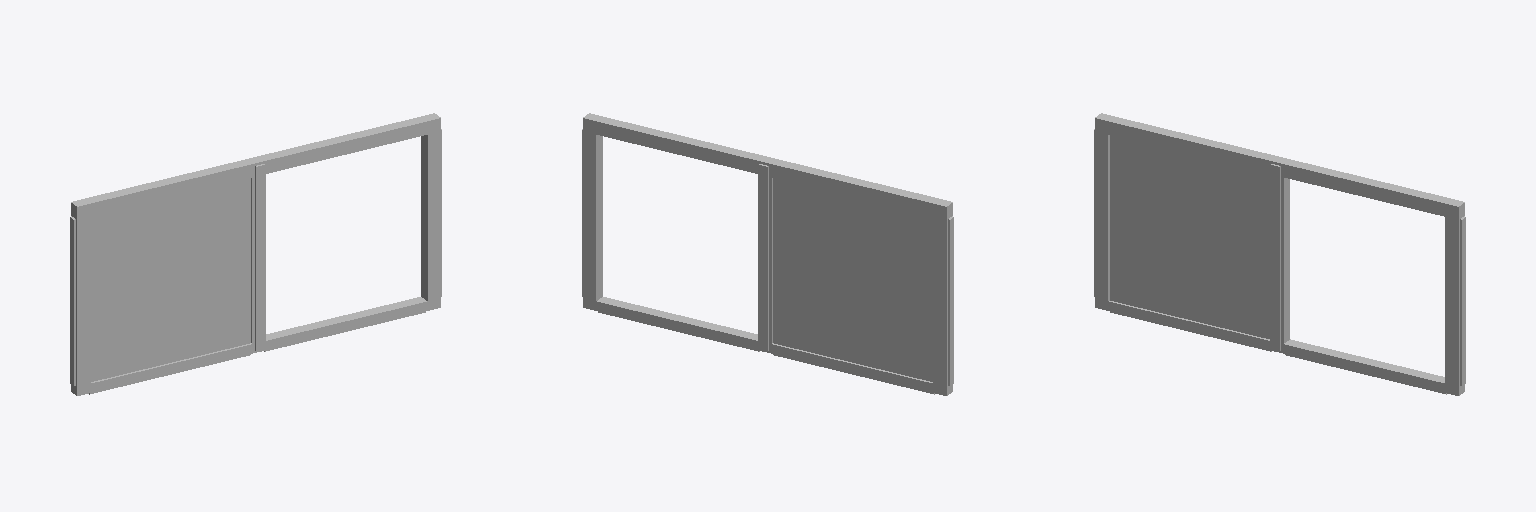
Rendered from Glass_wall__obj.obj.
3 renders of one model, left to right at view 1: azimuth 30°, elevation 25°; view 2: azimuth 150°, elevation 25°; view 3: azimuth 330°, elevation 25°, orthographic.
Visible parts, largest first — view 1: Glass_wall__obj.obj; view 2: Glass_wall__obj.obj; view 3: Glass_wall__obj.obj.
Part boxes in pixels (left/top/right/bottom): Glass_wall__obj.obj: left=70, top=113, right=441, bottom=395; Glass_wall__obj.obj: left=582, top=113, right=953, bottom=395; Glass_wall__obj.obj: left=1094, top=113, right=1465, bottom=395.
Size of the model in its own units: 810 by 403 by 35.23.